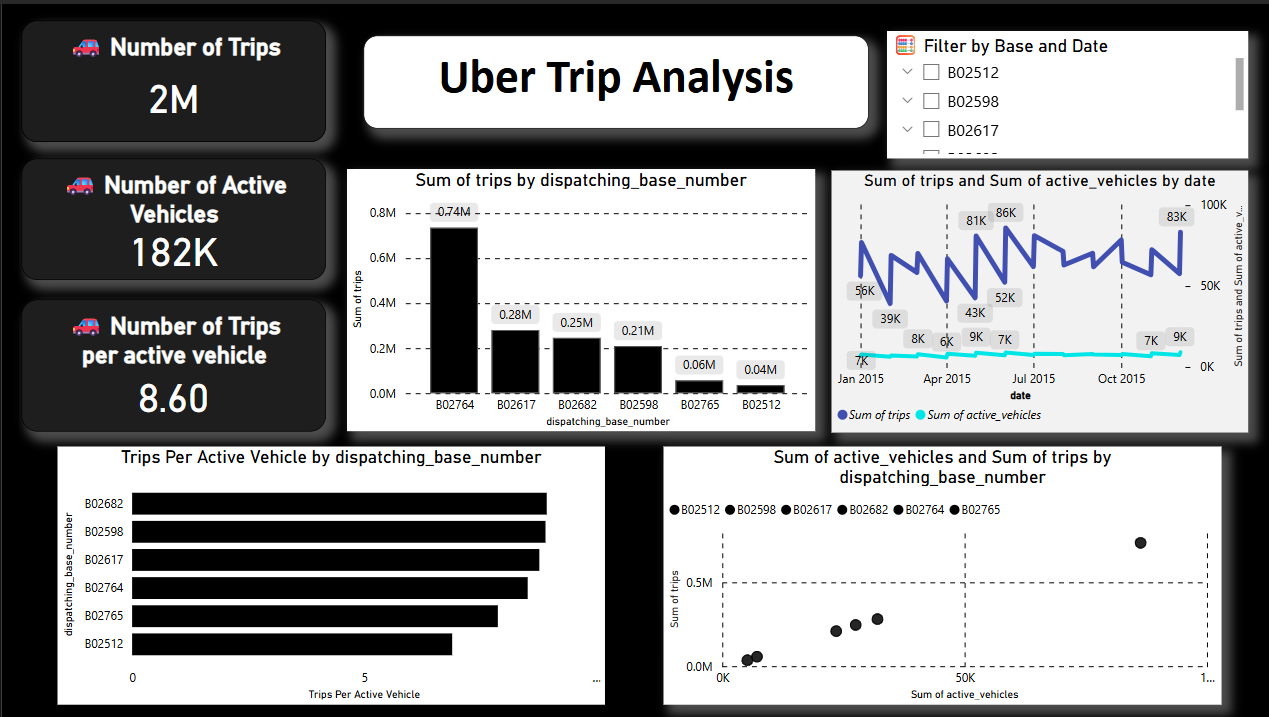

The page's visual inventory and layout, read from the dashboard file:
{"tool":"powerbi","page":{"name":"Page 1","canvas":[1280,720],"ordinal":0},"visuals":[{"type":"textbox","box":[364.9,31.8,510.3,93.9],"z":0},{"type":"card","title":"🚗 Number of Trips","fields":{"Values":["Sum(Uber-Jan-Feb-FOIL.trips)"]},"box":[19.7,16.7,307.4,122.7],"z":1000},{"type":"card","title":"🚗 Number of Trips per active vehicle","fields":{"Values":["Uber-Jan-Feb-FOIL.Trips per active vehicle"]},"box":[19.7,298.3,307.4,133.3],"z":2000},{"type":"card","title":"🚗 Number of Active Vehicles","fields":{"Values":["Sum(Uber-Jan-Feb-FOIL.active_vehicles)"]},"box":[19.7,156,307.4,122.7],"z":3000},{"type":"clusteredColumnChart","fields":{"Category":["Uber-Jan-Feb-FOIL.dispatching_base_number"],"Y":["Sum(Uber-Jan-Feb-FOIL.trips)"]},"box":[348.3,166.6,472.4,265],"z":4000},{"type":"lineChart","fields":{"Category":["Uber-Jan-Feb-FOIL.date"],"Y2":["Sum(Uber-Jan-Feb-FOIL.trips)","Sum(Uber-Jan-Feb-FOIL.active_vehicles)"]},"box":[837.4,168.1,420.9,265],"z":5000},{"type":"barChart","fields":{"Y":["Uber-Jan-Feb-FOIL.Trips per active vehicle"],"Category":["Uber-Jan-Feb-FOIL.dispatching_base_number"]},"box":[56,446.7,552.7,260.4],"z":6000},{"type":"scatterChart","fields":{"X":["Sum(Uber-Jan-Feb-FOIL.active_vehicles)"],"Y":["Sum(Uber-Jan-Feb-FOIL.trips)"],"Series":["Uber-Jan-Feb-FOIL.dispatching_base_number"]},"box":[667.8,446.7,563.3,260.4],"z":7000},{"type":"slicer","title":"🧮 Filter by Base and Date","fields":{"Values":["Uber-Jan-Feb-FOIL.dispatching_base_number","Uber-Jan-Feb-FOIL.date"]},"box":[893.4,27.3,364.9,128.7],"z":8000}]}

Visuals, with their boxes in screenshot pixels (x1, y1, x2, y2), scaled from the page's 1280x720 canvas onto the 1269x717 screenshot:
textbox: crop(362, 32, 868, 125)
"🚗 Number of Trips" card: crop(20, 17, 324, 139)
"🚗 Number of Trips per active vehicle" card: crop(20, 297, 324, 430)
"🚗 Number of Active Vehicles" card: crop(20, 155, 324, 278)
clusteredColumnChart - Uber-Jan-Feb-FOIL.dispatching_base_number x Sum(Uber-Jan-Feb-FOIL.trips): crop(345, 166, 814, 430)
lineChart - Uber-Jan-Feb-FOIL.date x Sum(Uber-Jan-Feb-FOIL.trips): crop(830, 167, 1247, 431)
barChart - Uber-Jan-Feb-FOIL.Trips per active vehicle x Uber-Jan-Feb-FOIL.dispatching_base_number: crop(56, 445, 603, 704)
scatterChart - Sum(Uber-Jan-Feb-FOIL.active_vehicles) x Sum(Uber-Jan-Feb-FOIL.trips): crop(662, 445, 1221, 704)
"🧮 Filter by Base and Date" slicer: crop(886, 27, 1247, 155)
